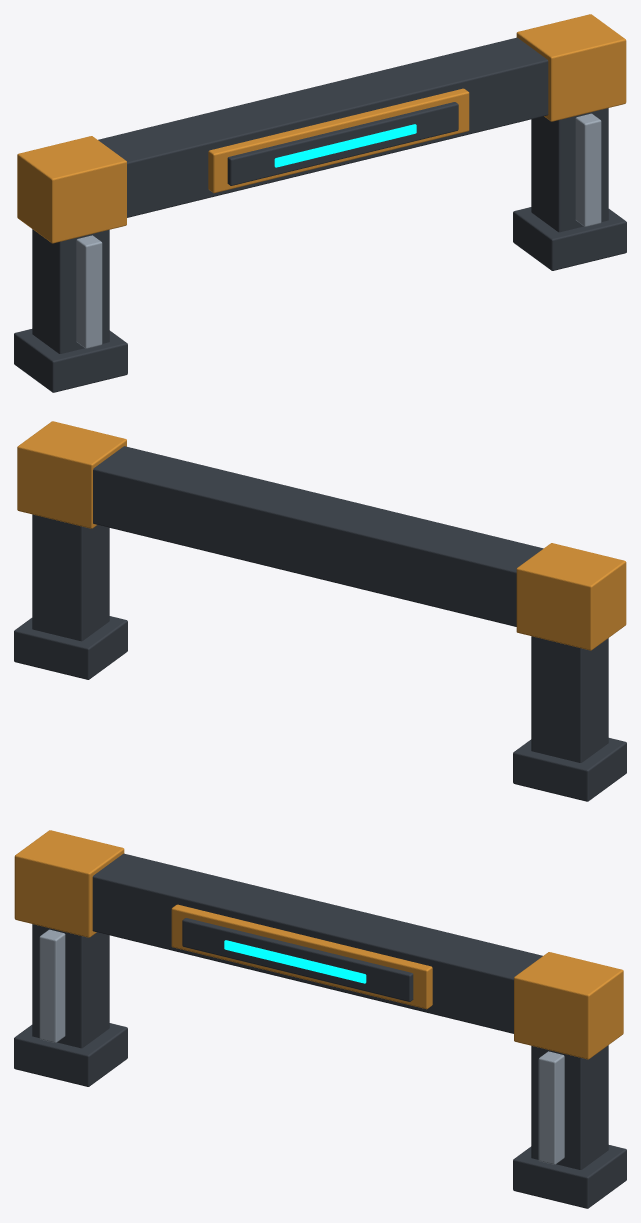
The model's file is SM_RobotCenter_MainFrame.fbx.
The picture shows the model from 3 angles, top to bottom: view 1: azimuth 30°, elevation 25°; view 2: azimuth 150°, elevation 25°; view 3: azimuth 330°, elevation 25°; orthographic projection.
Parts seen in each view (by area): view 1: SM_RobotCenter_MainFrame.001; view 2: SM_RobotCenter_MainFrame.001; view 3: SM_RobotCenter_MainFrame.001.
Boxes of the visible parts, left/top/right/bottom form: SM_RobotCenter_MainFrame.001: left=14, top=14, right=626, bottom=392; SM_RobotCenter_MainFrame.001: left=14, top=421, right=626, bottom=801; SM_RobotCenter_MainFrame.001: left=14, top=830, right=626, bottom=1208.
Bounding box in the file's own units: 176 × 1278 × 454.
